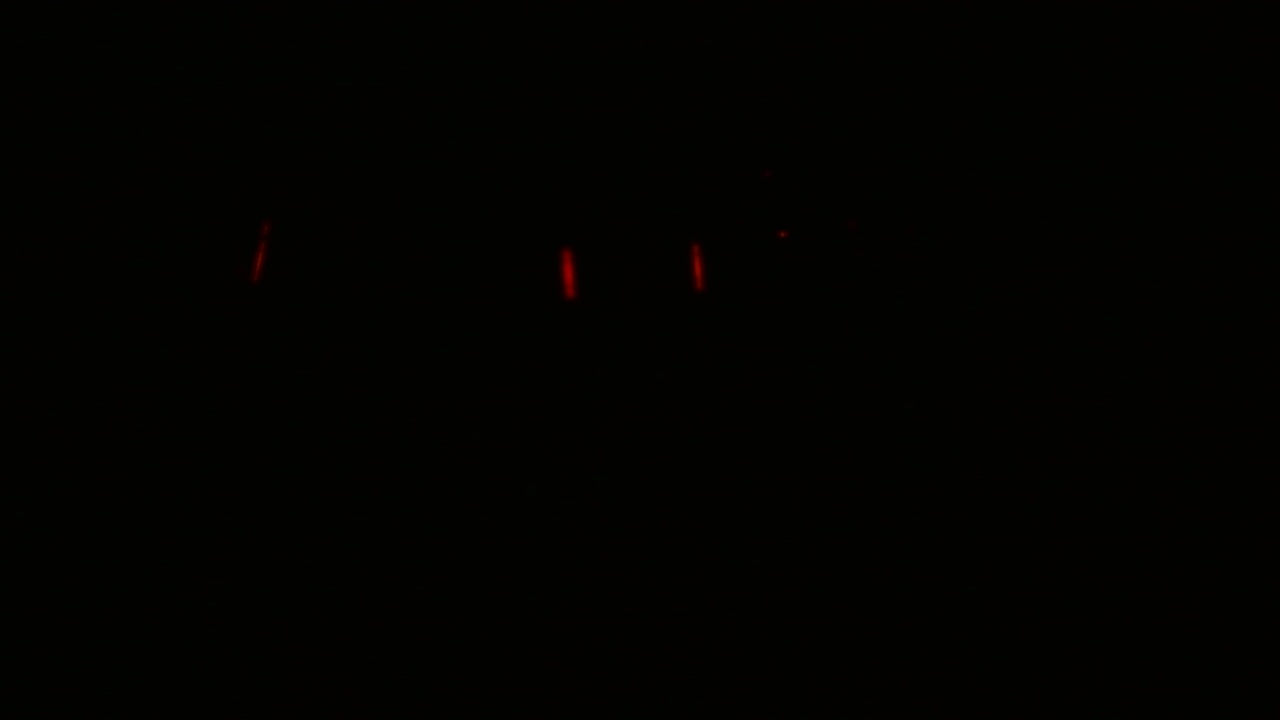pair1: (556, 230, 716, 313)
